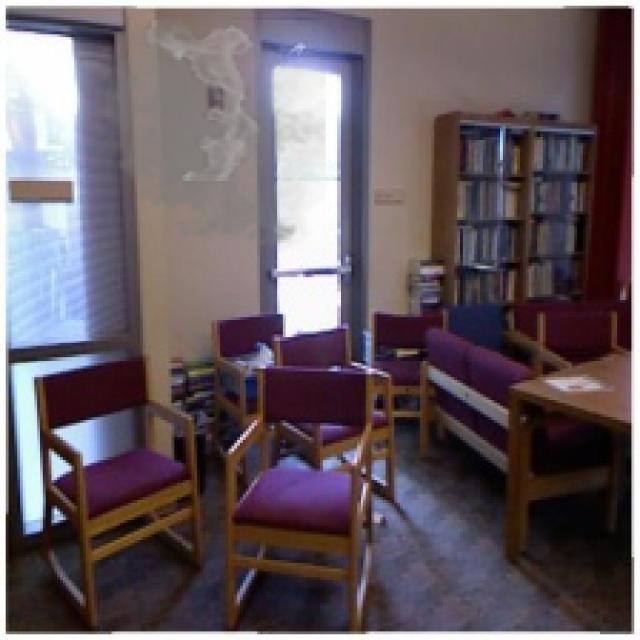Smoke: (83, 17, 326, 254)
